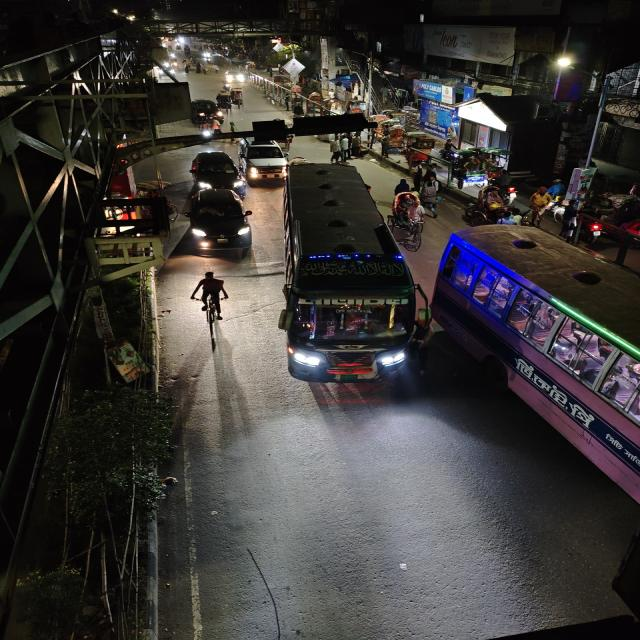bicycle: (191, 272, 232, 341)
bus: (430, 226, 640, 617), (274, 159, 421, 390)
car: (183, 186, 254, 257), (186, 149, 242, 189), (237, 139, 290, 181), (192, 98, 224, 126), (222, 66, 248, 87)
motorcycle: (197, 117, 220, 141)
pedestrian: (326, 140, 347, 166)
rickshaw: (388, 189, 428, 243), (395, 132, 439, 170), (376, 127, 408, 157), (229, 87, 248, 109)
